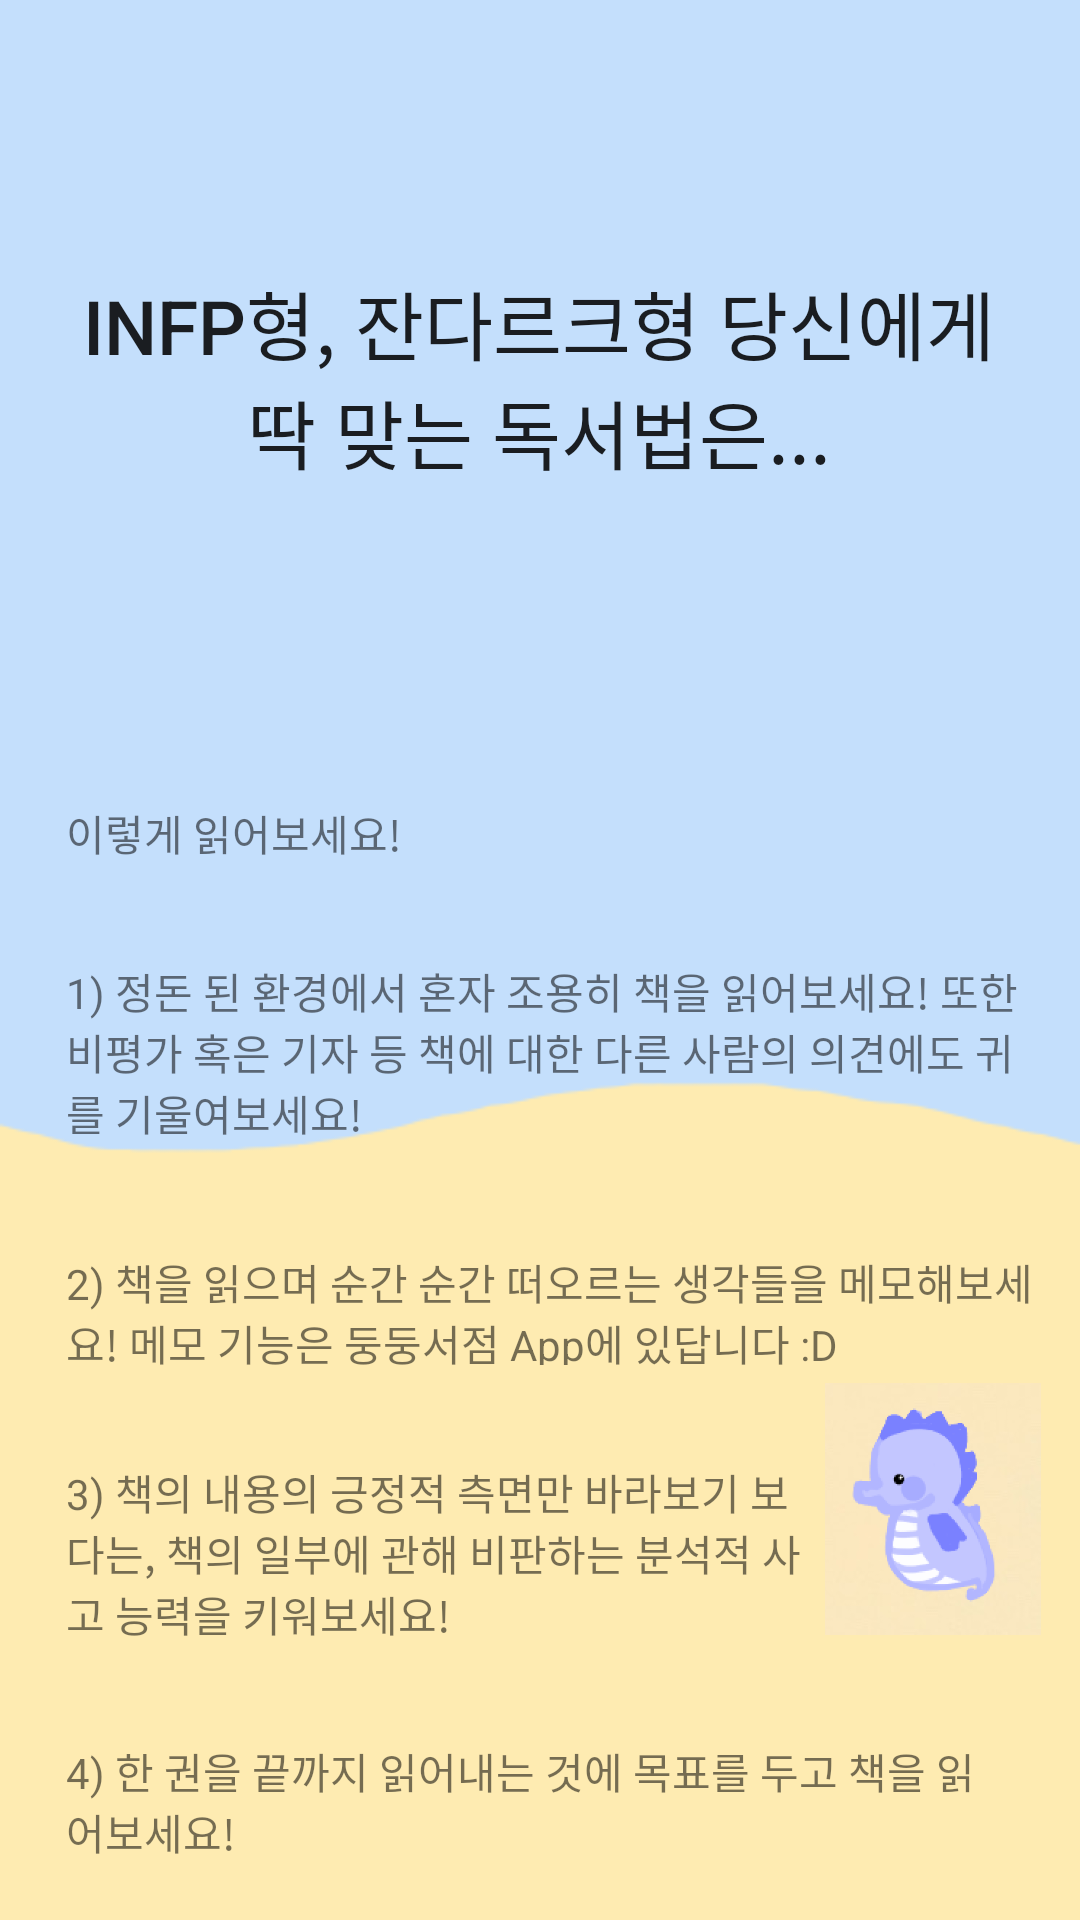

Screen size 1080px x 1920px. Icon name, then its center in pixels as (x=x, y=y):
seahorse: (x=923, y=1505)
